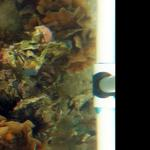alive: (4, 4, 114, 147)
